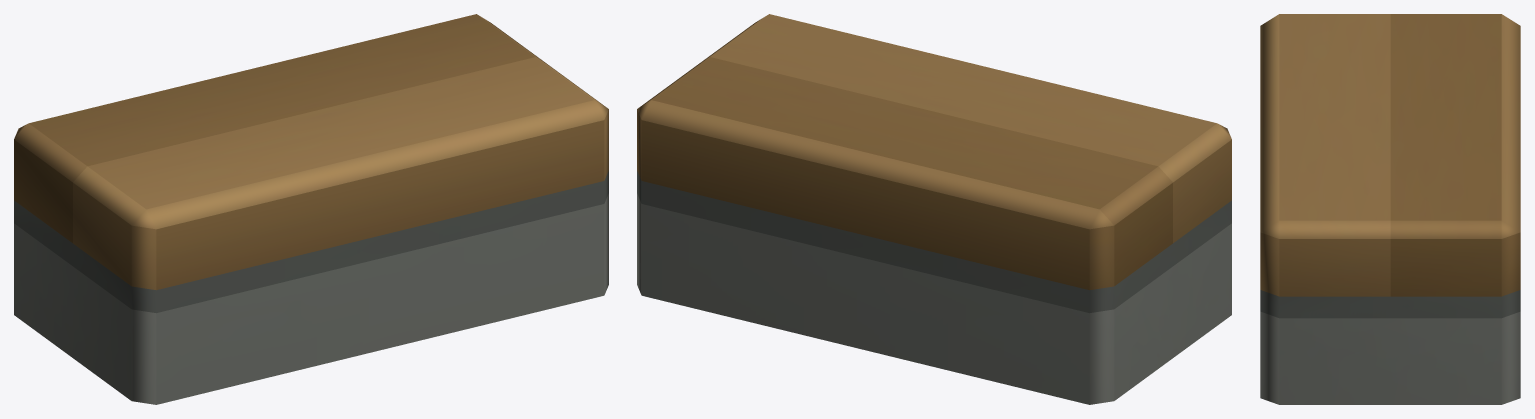
File: chair_roof_footrest_x2_wood.fbx
3 views of the same model, side by side, from view 1: azimuth 30°, elevation 25°; view 2: azimuth 150°, elevation 25°; view 3: azimuth 270°, elevation 25° (orthographic). The views are drawn at different scales.
Visible parts, largest first — view 1: chair_roof_footrest_x2_wood; view 2: chair_roof_footrest_x2_wood; view 3: chair_roof_footrest_x2_wood.
Boxes of the visible parts, left/top/right/bottom form: chair_roof_footrest_x2_wood: left=14, top=14, right=608, bottom=404; chair_roof_footrest_x2_wood: left=637, top=14, right=1231, bottom=404; chair_roof_footrest_x2_wood: left=1260, top=14, right=1520, bottom=404.
Size of the model in its own units: 100 by 37.68 by 50.
